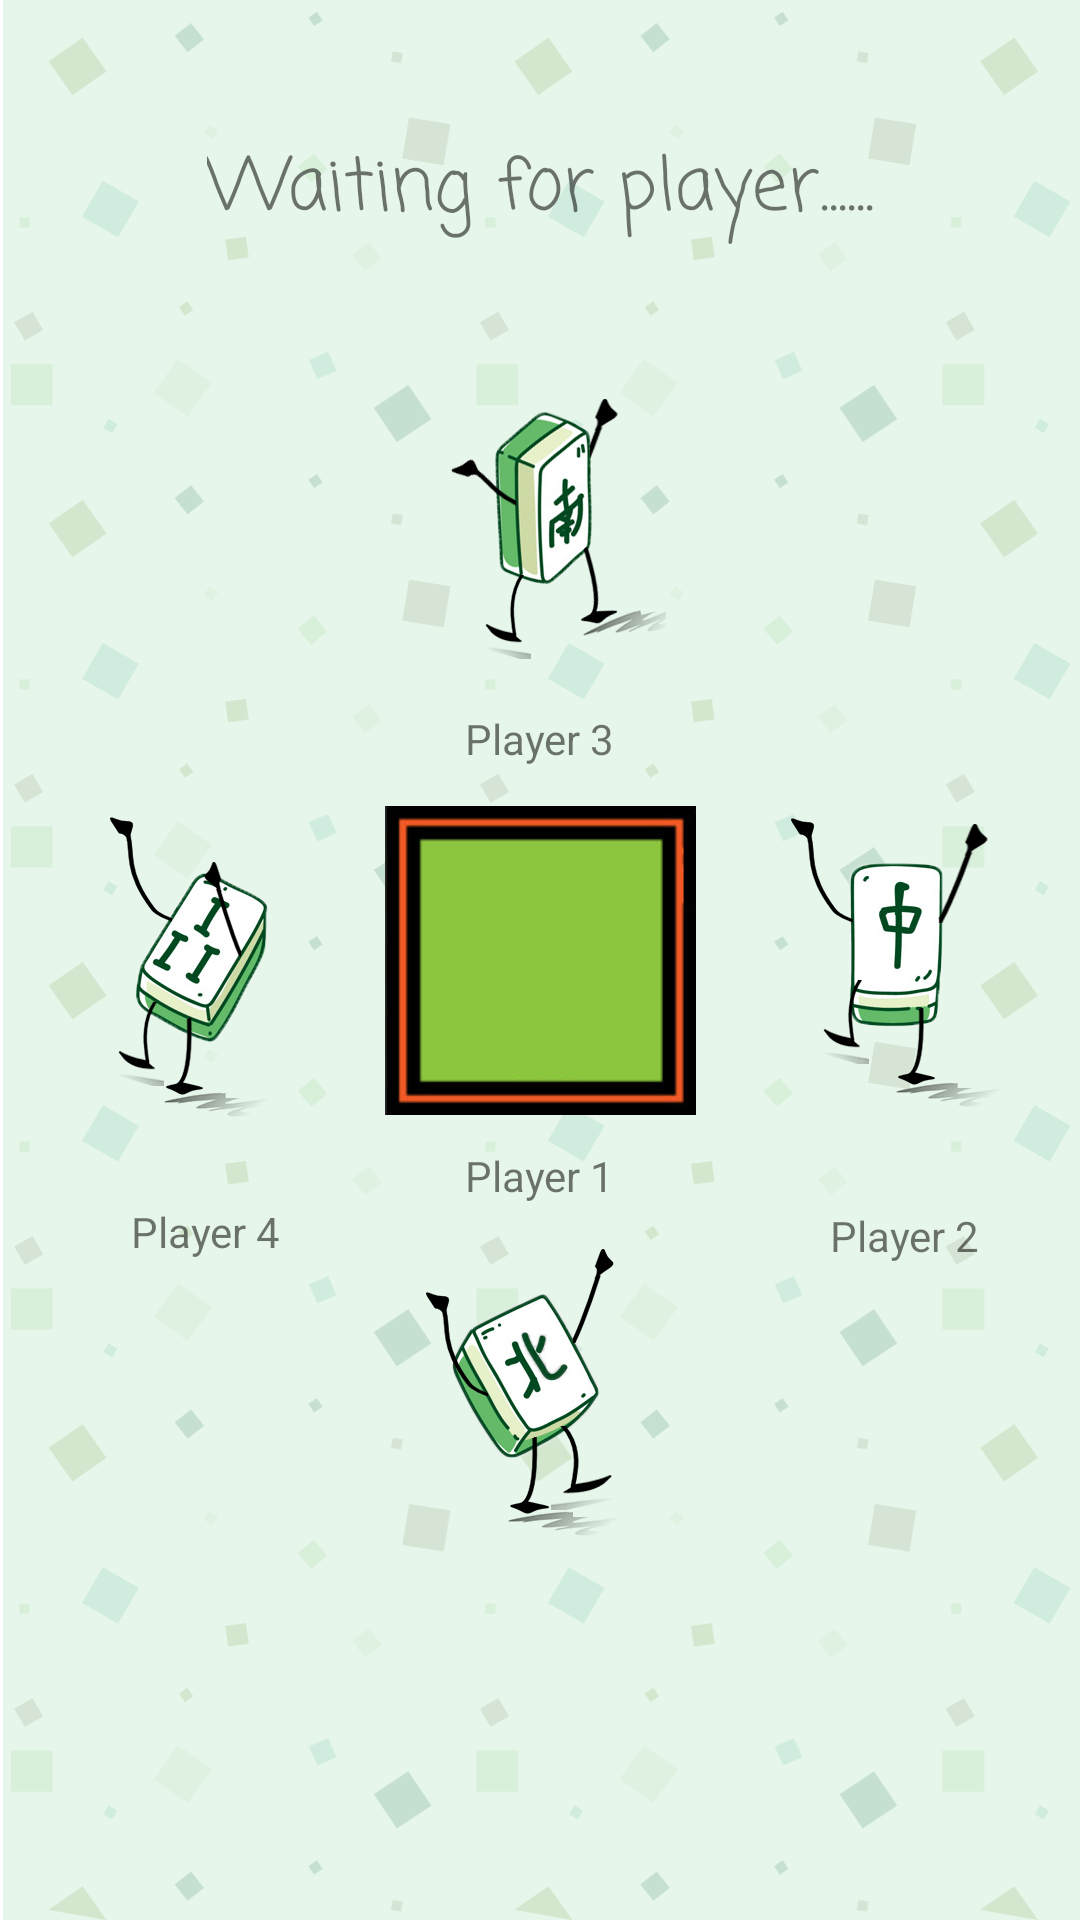

Where to tap for icons on this 1080x1920 app screen, as (x=x, y=y):
majongman: (x=558, y=529), (x=188, y=966), (x=906, y=962), (x=547, y=1392)
table: (x=535, y=960)
